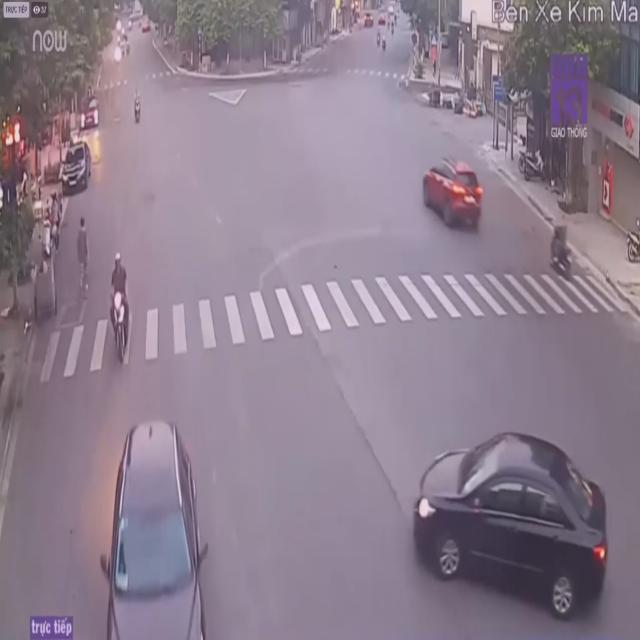car: (406, 425, 612, 611), (100, 415, 203, 636), (420, 160, 483, 234)
motorbike: (109, 251, 135, 366), (550, 214, 572, 281), (132, 90, 144, 128)
